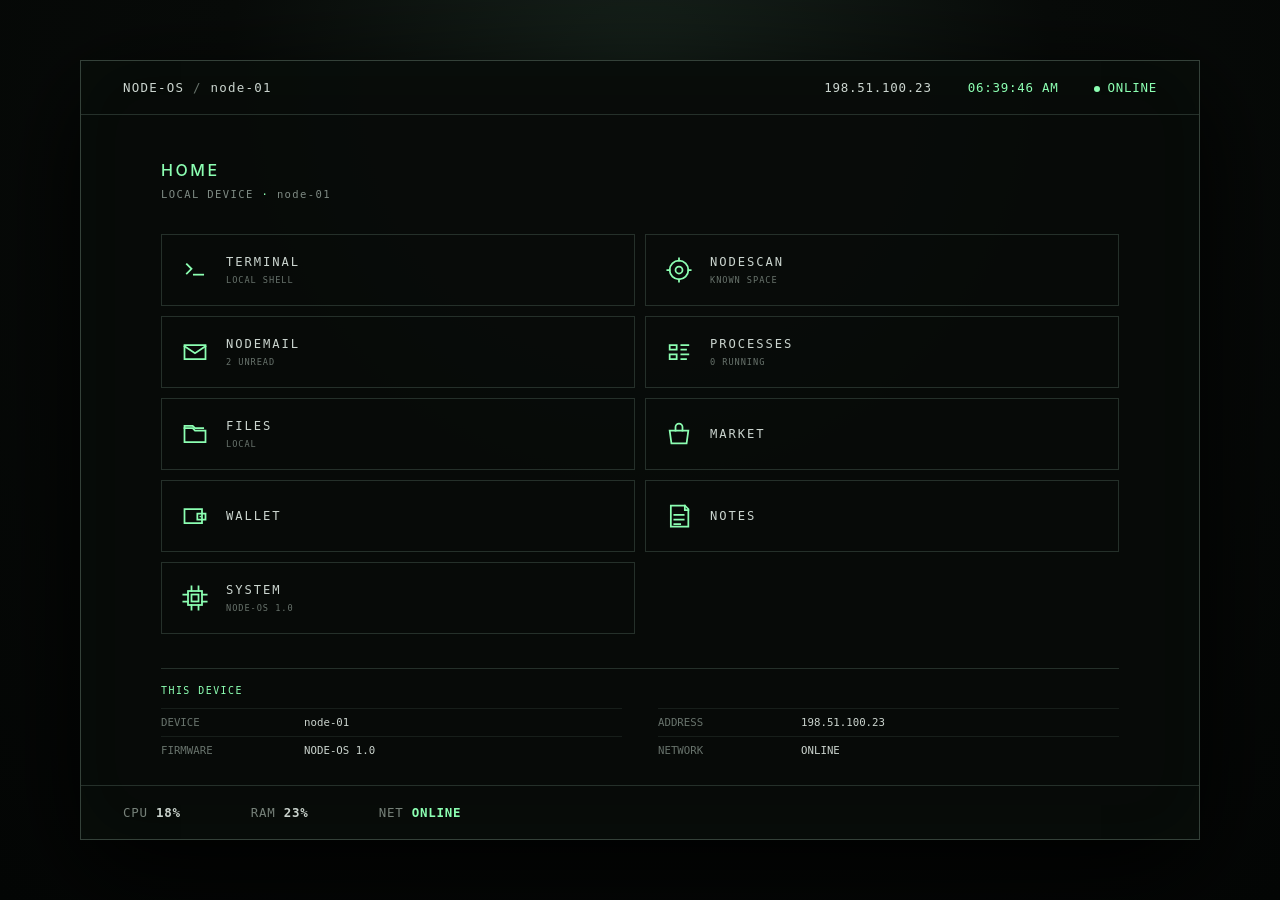
NODE-OS shell and applications › opens an app and returns home
Click the button with aria-label "open wallet". click: click(254, 516)
box: [161,480,635,552]
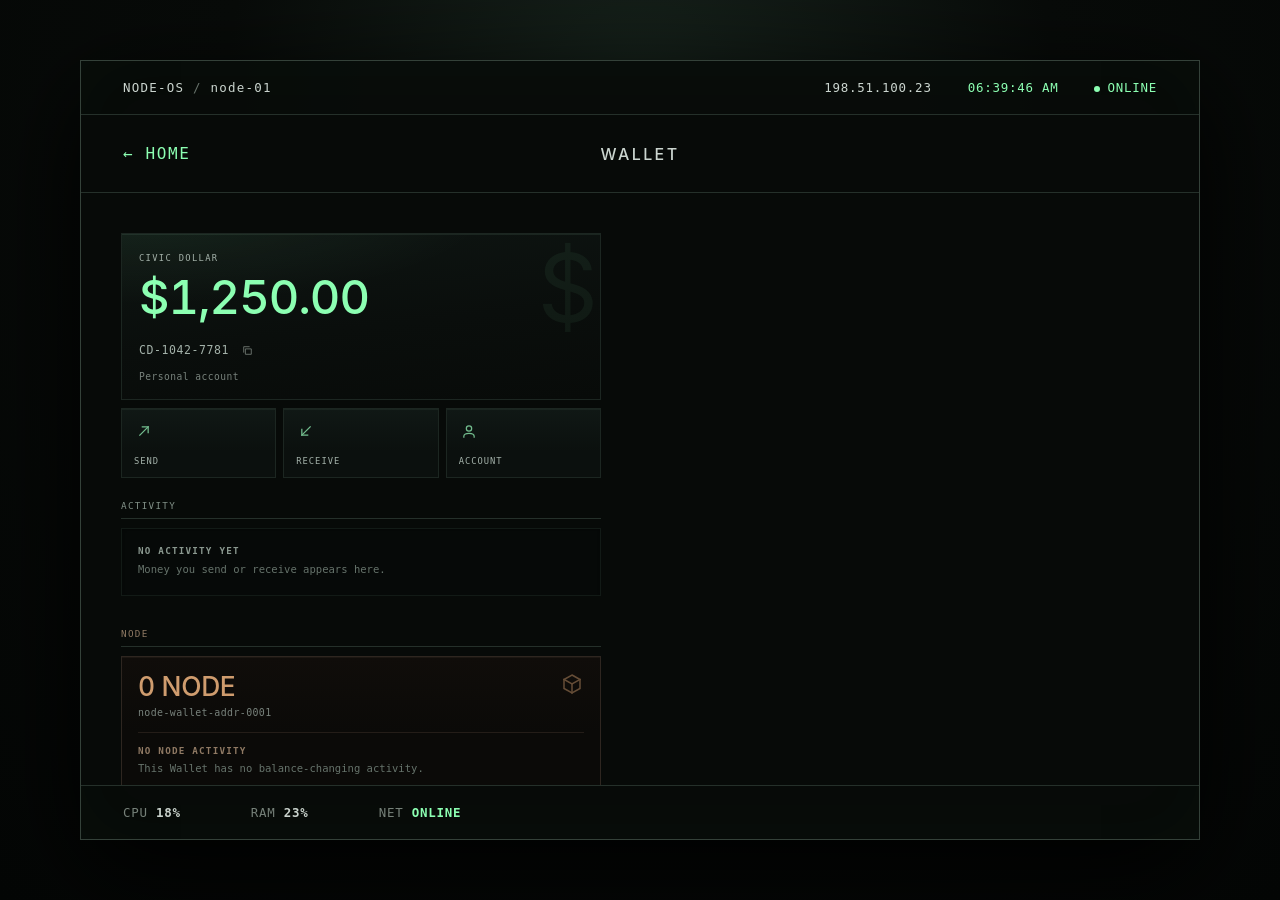
Check: the text "Civic Dollar" is shown, box [139,253,218,263]
Check: the text "$1,250.00" is shown, box [139,268,369,325]
Click the button with aria-label "back to home". click: click(157, 154)
box: [109,132,204,176]
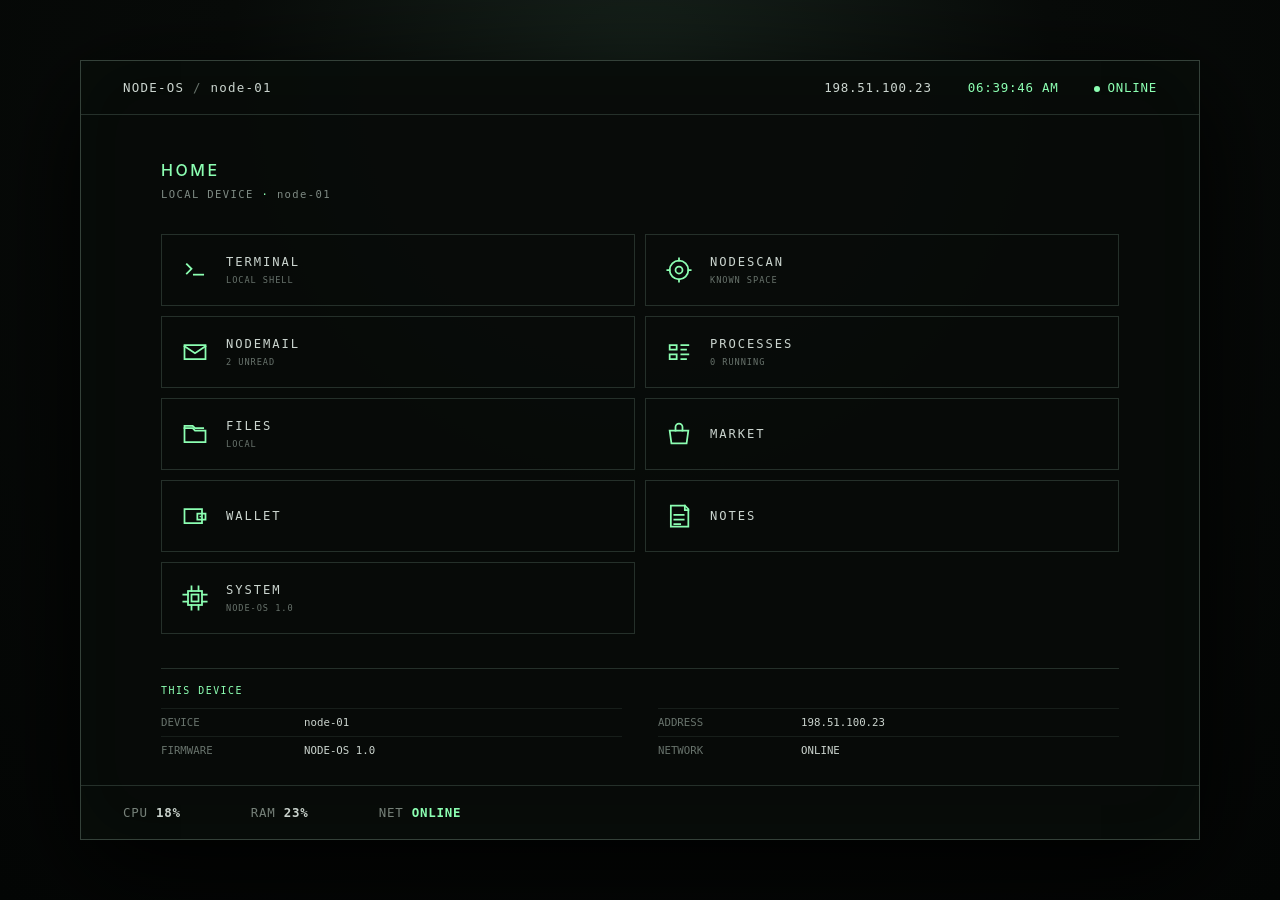
Check: the heading "HOME" is shown, box [161,160,220,180]
